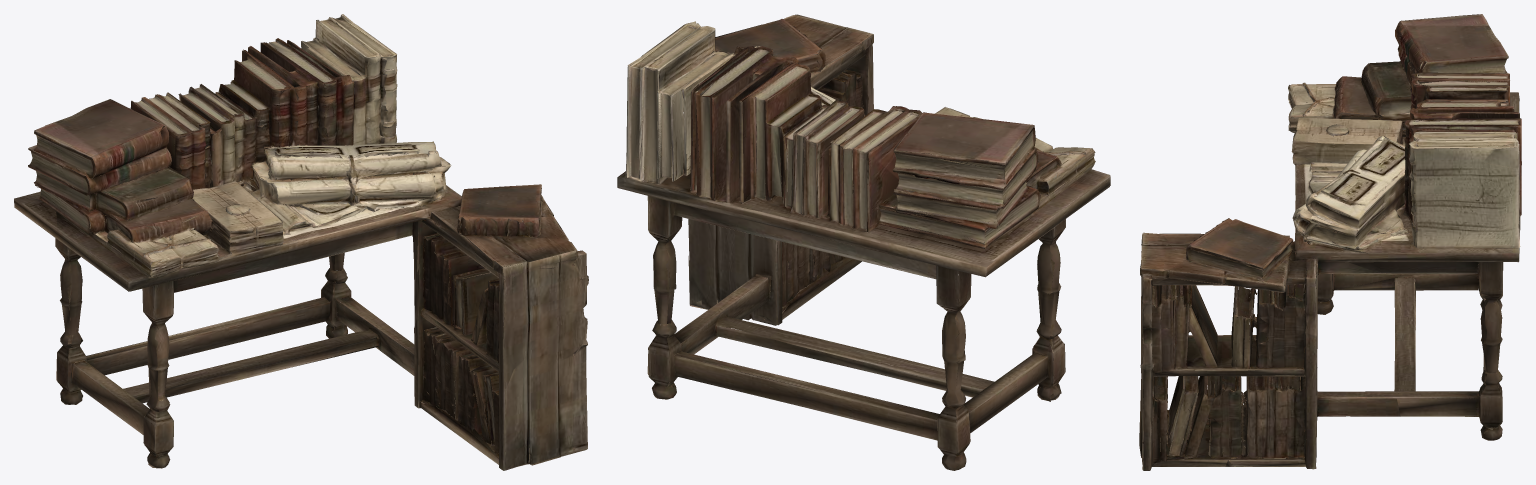
File: bookseller-stock-cluster.glb
3 views of the same model, side by side, from view 1: azimuth 30°, elevation 25°; view 2: azimuth 150°, elevation 25°; view 3: azimuth 270°, elevation 25° (orthographic). The views are drawn at different scales.
Parts seen in each view (by area): view 1: Mesh_0; view 2: Mesh_0; view 3: Mesh_0.
Part boxes in pixels (left/top/right/bottom): Mesh_0: left=14, top=14, right=588, bottom=470; Mesh_0: left=617, top=14, right=1110, bottom=470; Mesh_0: left=1139, top=14, right=1521, bottom=470.
Bounding box in the file's own units: 1.9 × 1.39 × 1.6.
1 material, 1 textured.
